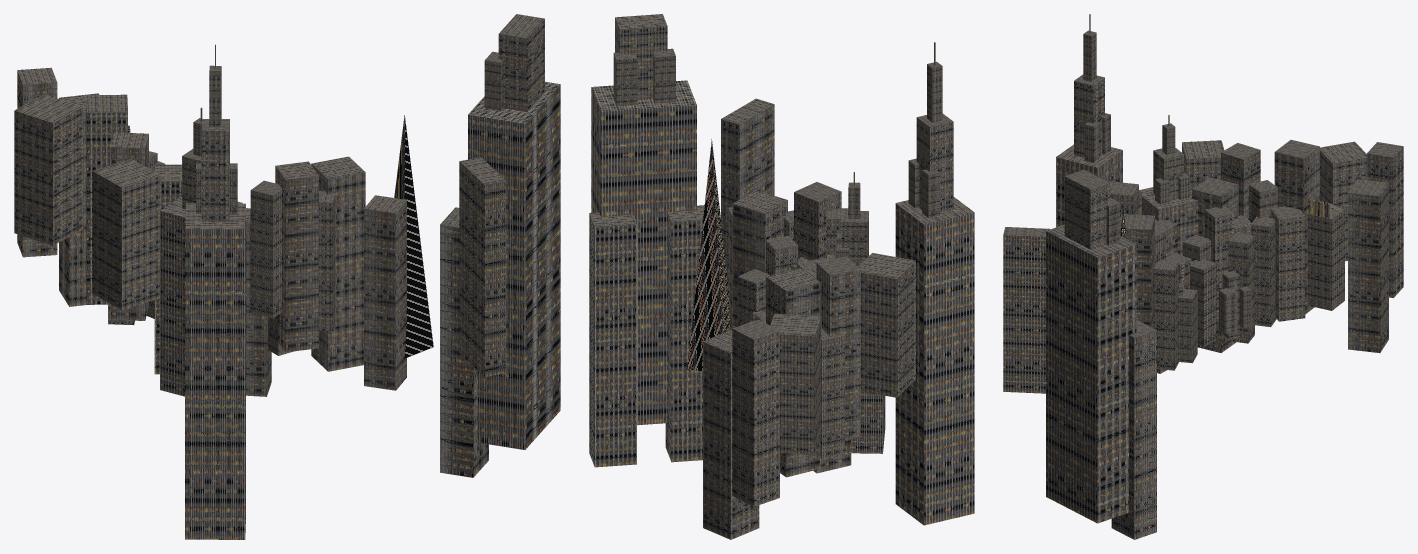
File: Apartaments.glb
3 views of the same model, side by side, from view 1: azimuth 30°, elevation 25°; view 2: azimuth 150°, elevation 25°; view 3: azimuth 270°, elevation 25° (orthographic). The views are drawn at different scales.
Parts seen in each view (by area): view 1: Apartaments; view 2: Apartaments; view 3: Apartaments.
Boxes of the visible parts, bbox=[...] form: Apartaments: bbox=[14, 14, 560, 539]; Apartaments: bbox=[589, 14, 974, 539]; Apartaments: bbox=[1003, 14, 1403, 539].
Bounding box in the file's own units: 411 × 486 × 447.
Materials: 1 (1 with a texture image).
